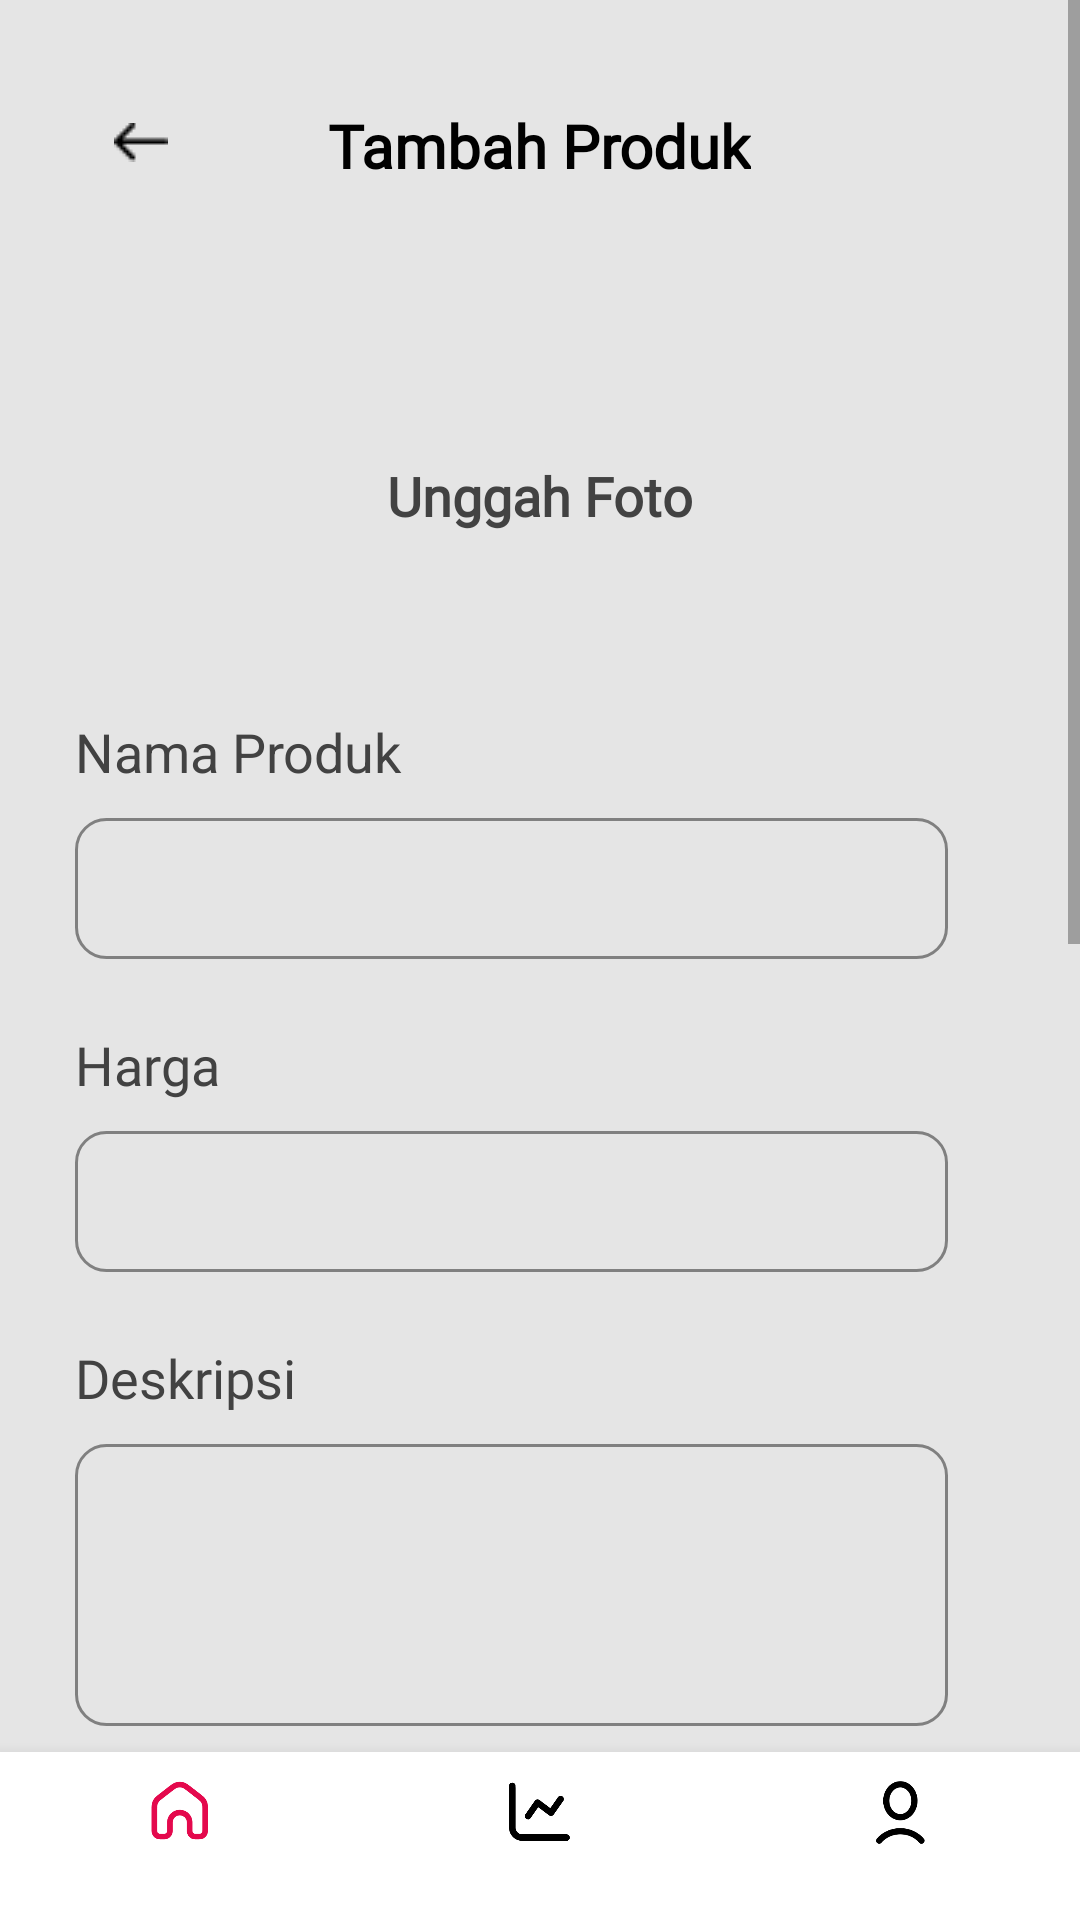

Where icons sit on this 1080*1920 app screen, as (x1, y1, x2, y2):
back: (114, 123, 168, 162)
